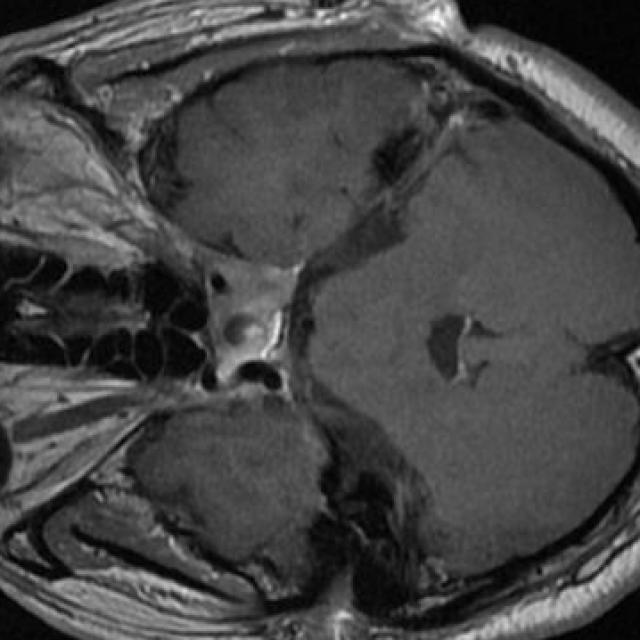pituitary: (212, 258, 294, 369)
